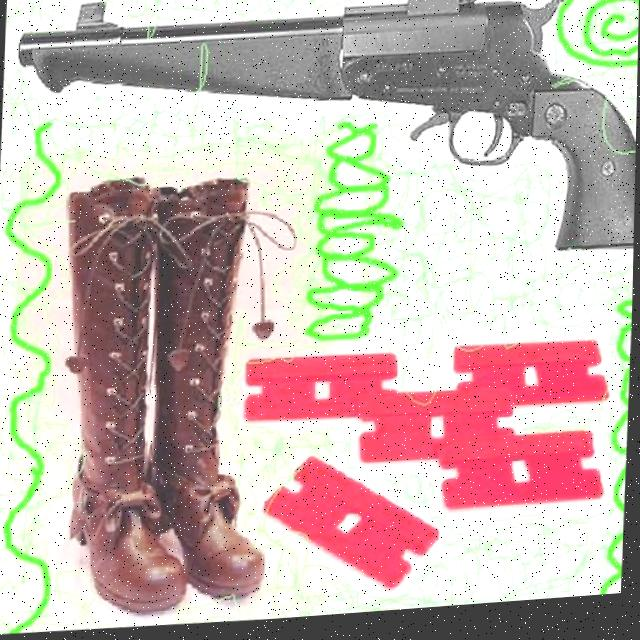pistol: (10, 0, 640, 294)
